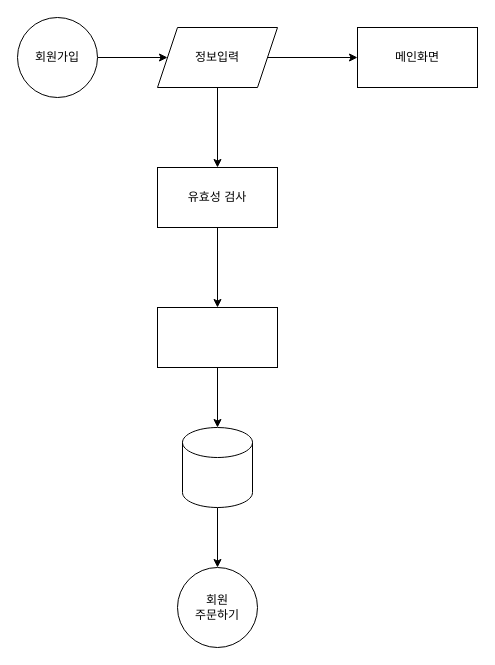
This 495x665 diagram has some shape labels left out. Here are the shapes that lost their labels. From the top down, the centre of each, then its label:
pixel 217 337: 회원 가입 완료
pixel 217 467: DB 회원테이블
